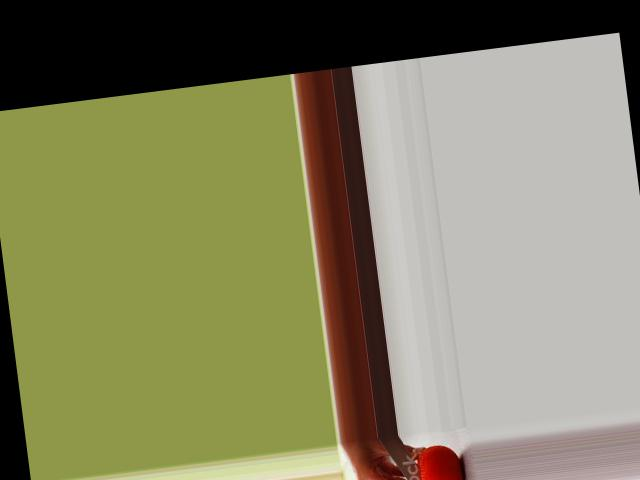tomato: (412, 441, 467, 480)
